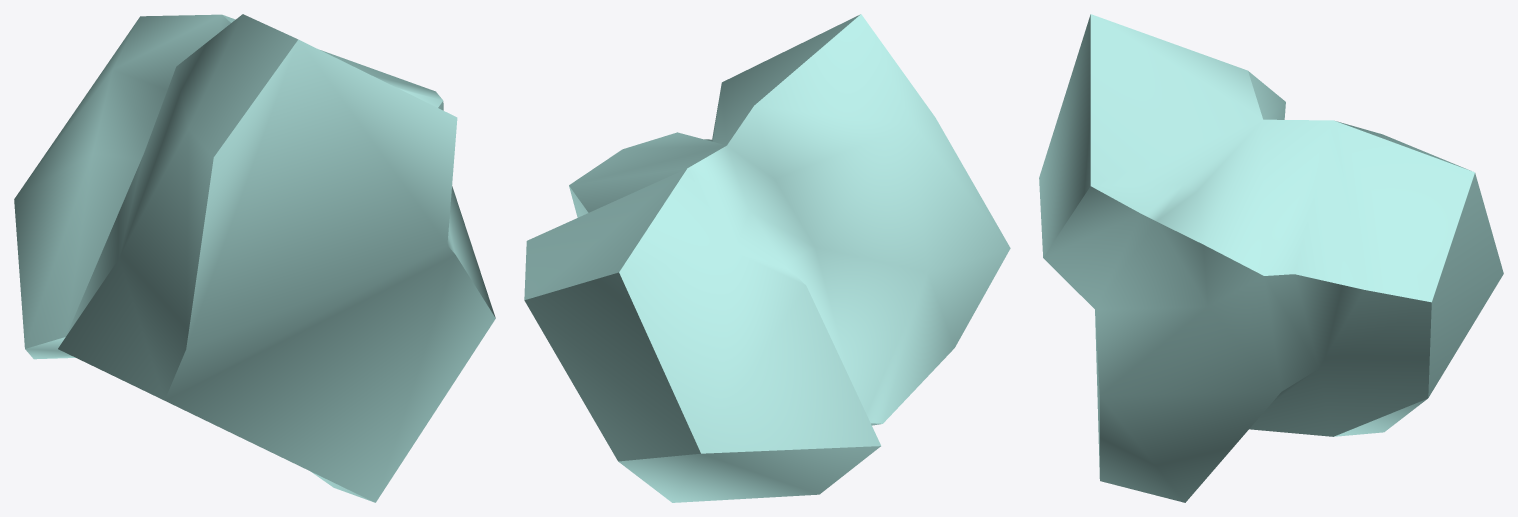
3 views of the same model, side by side, from view 1: azimuth 30°, elevation 25°; view 2: azimuth 150°, elevation 25°; view 3: azimuth 270°, elevation 25° (orthographic). The views are drawn at different scales.
Parts seen in each view (by area): view 1: Object20; view 2: Object20; view 3: Object20.
Part boxes in pixels (x1,y1,x2,y2): Object20: (14,14,495,502); Object20: (524,14,1010,502); Object20: (1039,14,1503,502).
Bounding box in the file's own units: 10938 × 13868 × 12964.
